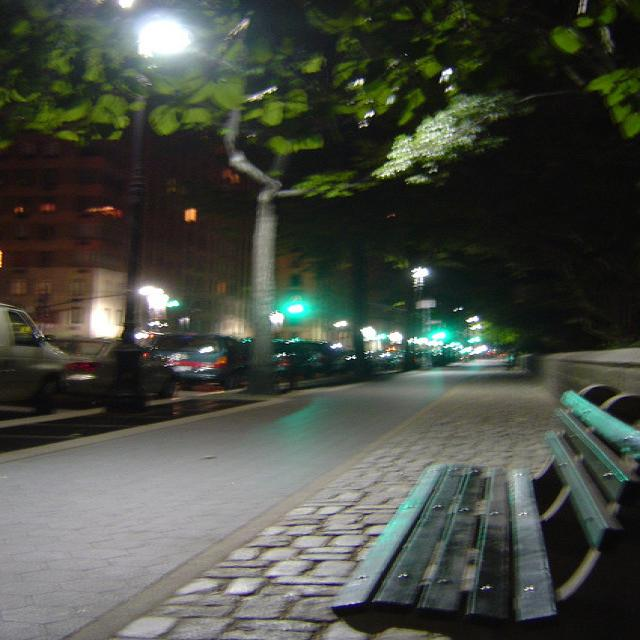Vehicle: (0, 302, 75, 418), (51, 337, 180, 402), (154, 334, 249, 390), (296, 342, 349, 376), (274, 340, 300, 389), (337, 350, 374, 373), (365, 352, 398, 371), (386, 348, 406, 368), (414, 356, 420, 368)
